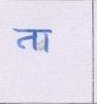aa_matra: (44, 33, 48, 51)
